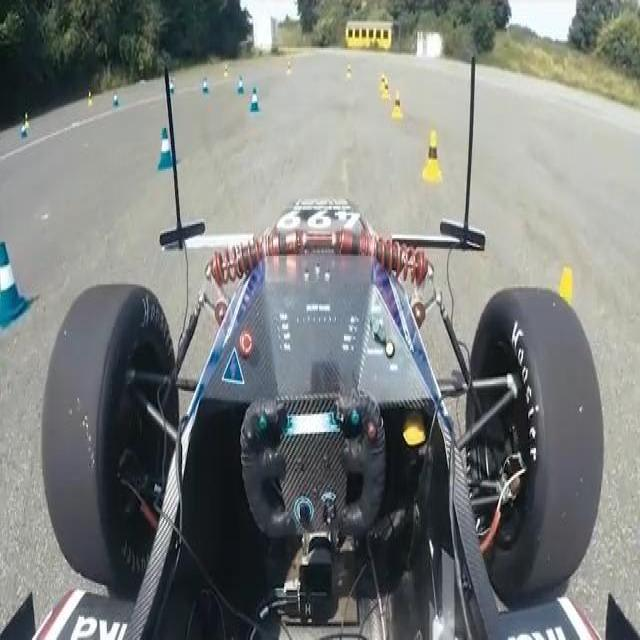blue_cone: (0, 224, 33, 334), (145, 108, 186, 182), (227, 67, 267, 125)
yellow_cone: (550, 240, 589, 339), (419, 126, 455, 196), (376, 69, 411, 119)
